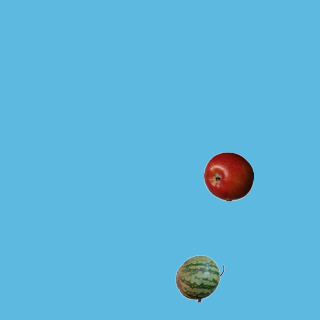Apple Braeburn: (203, 151, 253, 201)
Watermelon: (174, 253, 224, 303)
